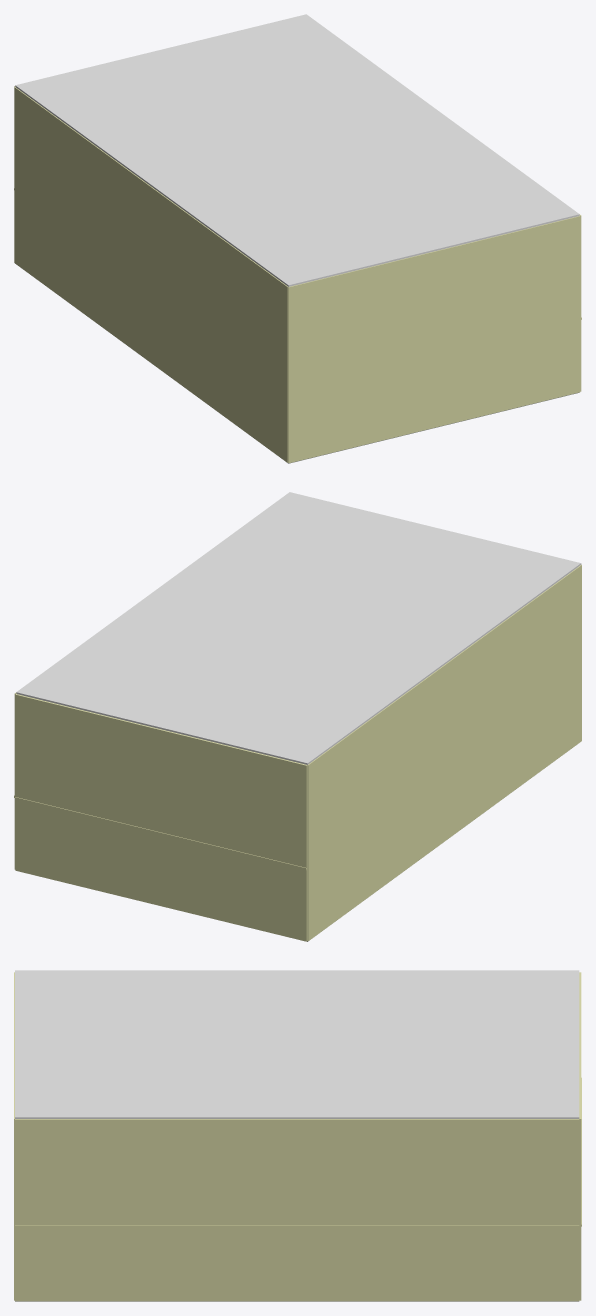
Rendered from Helmet.glb.
3 views of the same model, one above another, from view 1: azimuth 30°, elevation 25°; view 2: azimuth 150°, elevation 25°; view 3: azimuth 270°, elevation 25° (orthographic). The views are drawn at different scales.
Parts seen in each view (by area): view 1: floor.003, floor.001, floor.002; view 2: floor.003, floor.004, floor.002; view 3: floor.005, floor.003, floor.004, floor.
Part boxes in pixels (x1,y1,x2,y2): floor.003: (15,14,579,286); floor.001: (288,216,580,462); floor.002: (14,87,288,462); floor.003: (16,492,581,764); floor.004: (15,694,307,941); floor.002: (307,565,581,941); floor.005: (15,1119,579,1301); floor.003: (15,970,579,1118); floor.004: (579,972,581,1300); floor: (15,1301,578,1301).
Size of the model in its own units: 73.1 by 51.6 by 118.
